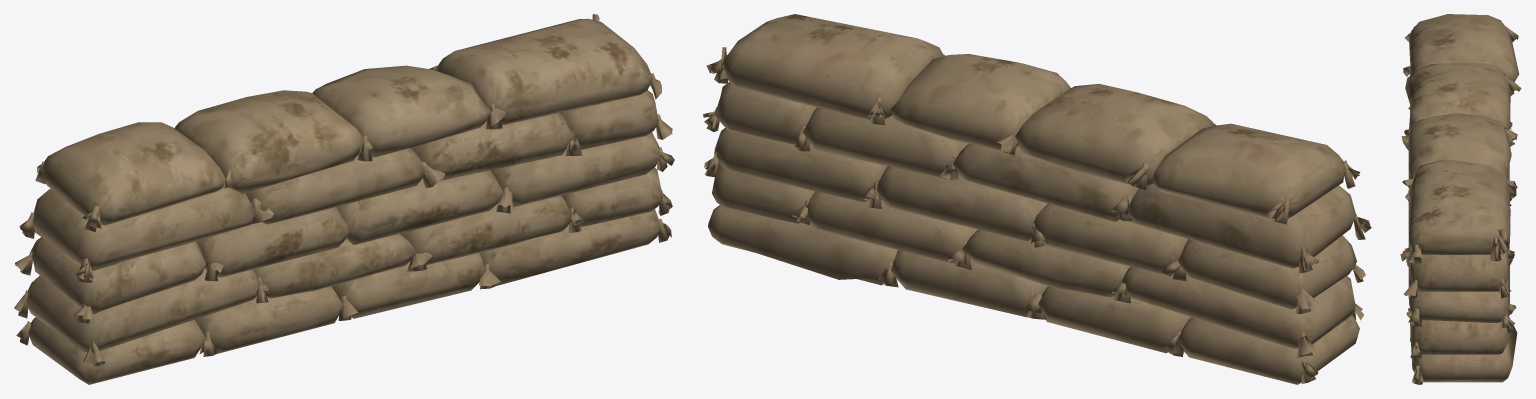
Rendered from sandbags_cover_barrier.glb.
The picture shows the model from 3 angles, left to right: view 1: azimuth 30°, elevation 25°; view 2: azimuth 150°, elevation 25°; view 3: azimuth 270°, elevation 25°; orthographic projection. The views are drawn at different scales.
Visible parts, largest first — view 1: Meshy_AI_sandbags_cover_barrier_3d_20261028_texture; view 2: Meshy_AI_sandbags_cover_barrier_3d_20261028_texture; view 3: Meshy_AI_sandbags_cover_barrier_3d_20261028_texture.
Boxes of the visible parts, bbox=[...] form: Meshy_AI_sandbags_cover_barrier_3d_20261028_texture: bbox=[14, 14, 674, 384]; Meshy_AI_sandbags_cover_barrier_3d_20261028_texture: bbox=[703, 14, 1371, 384]; Meshy_AI_sandbags_cover_barrier_3d_20261028_texture: bbox=[1400, 14, 1521, 384].
Size of the model in its own units: 2 by 0.6751 by 0.4385.
Materials: 1 (1 with a texture image).
